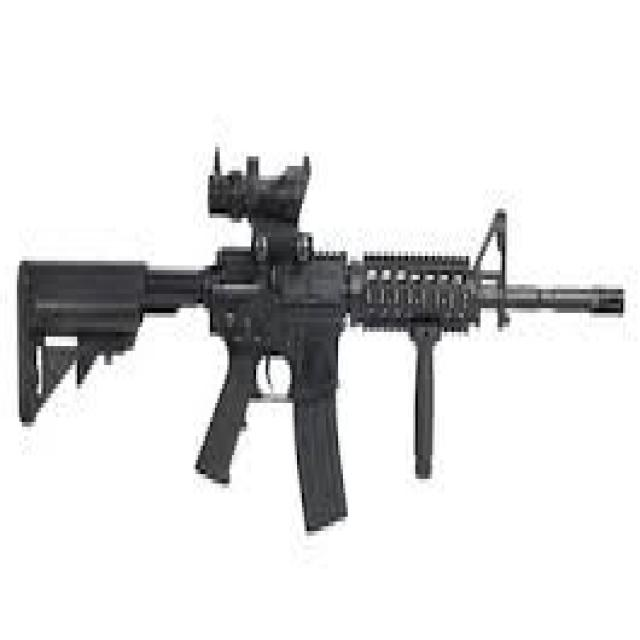rifle: (15, 138, 627, 539)
